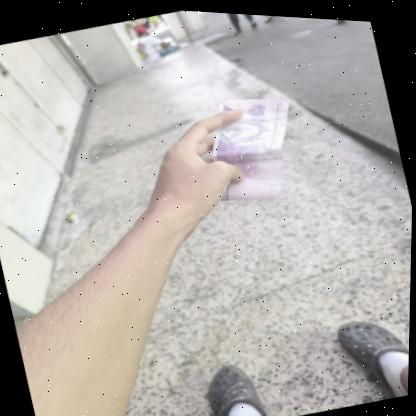one_hundred-back-vef: (196, 79, 314, 210)
